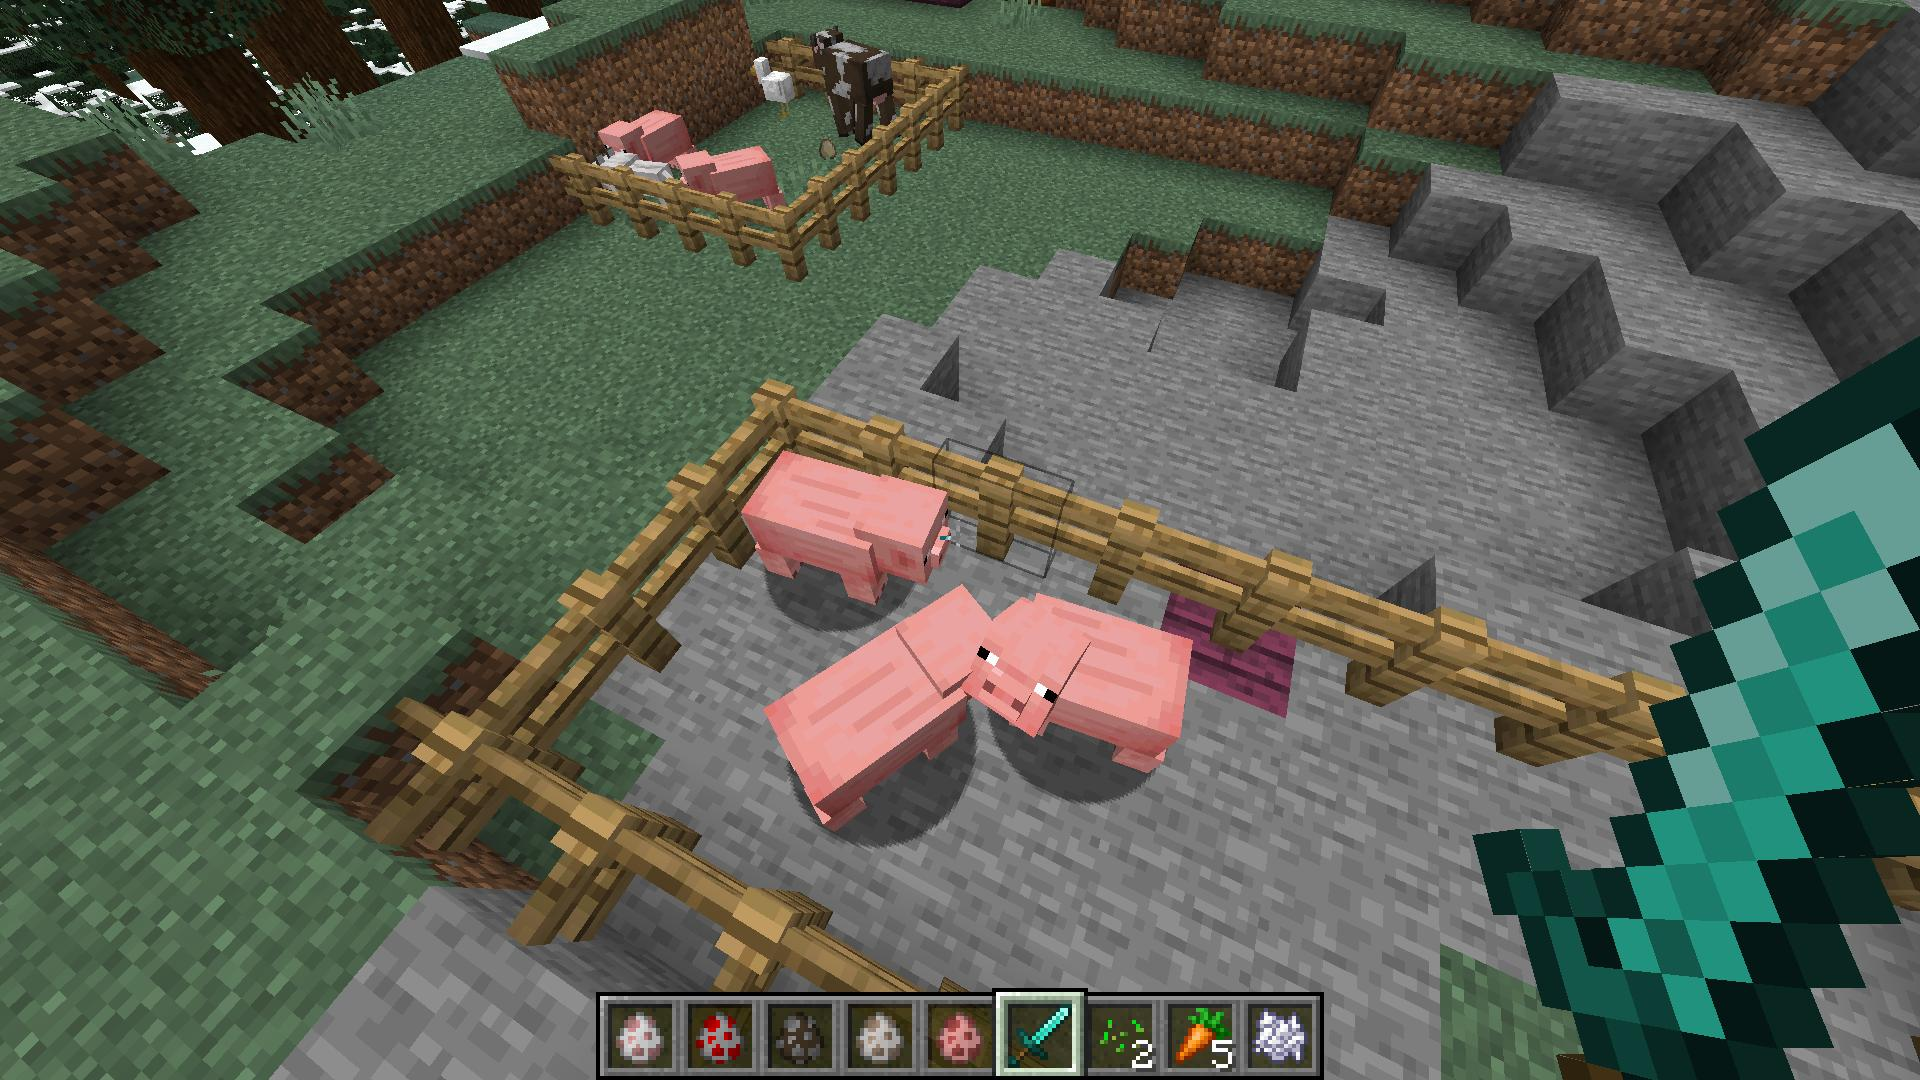pig: (760, 579, 1001, 840), (967, 587, 1199, 778), (737, 443, 957, 600)
